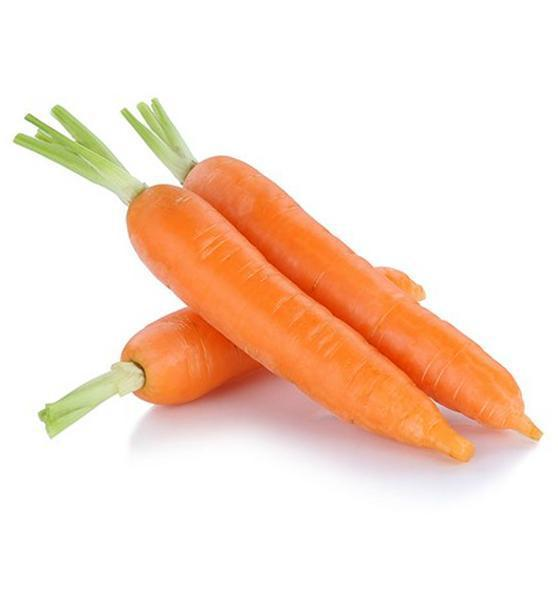carrot: (98, 135, 542, 503)
